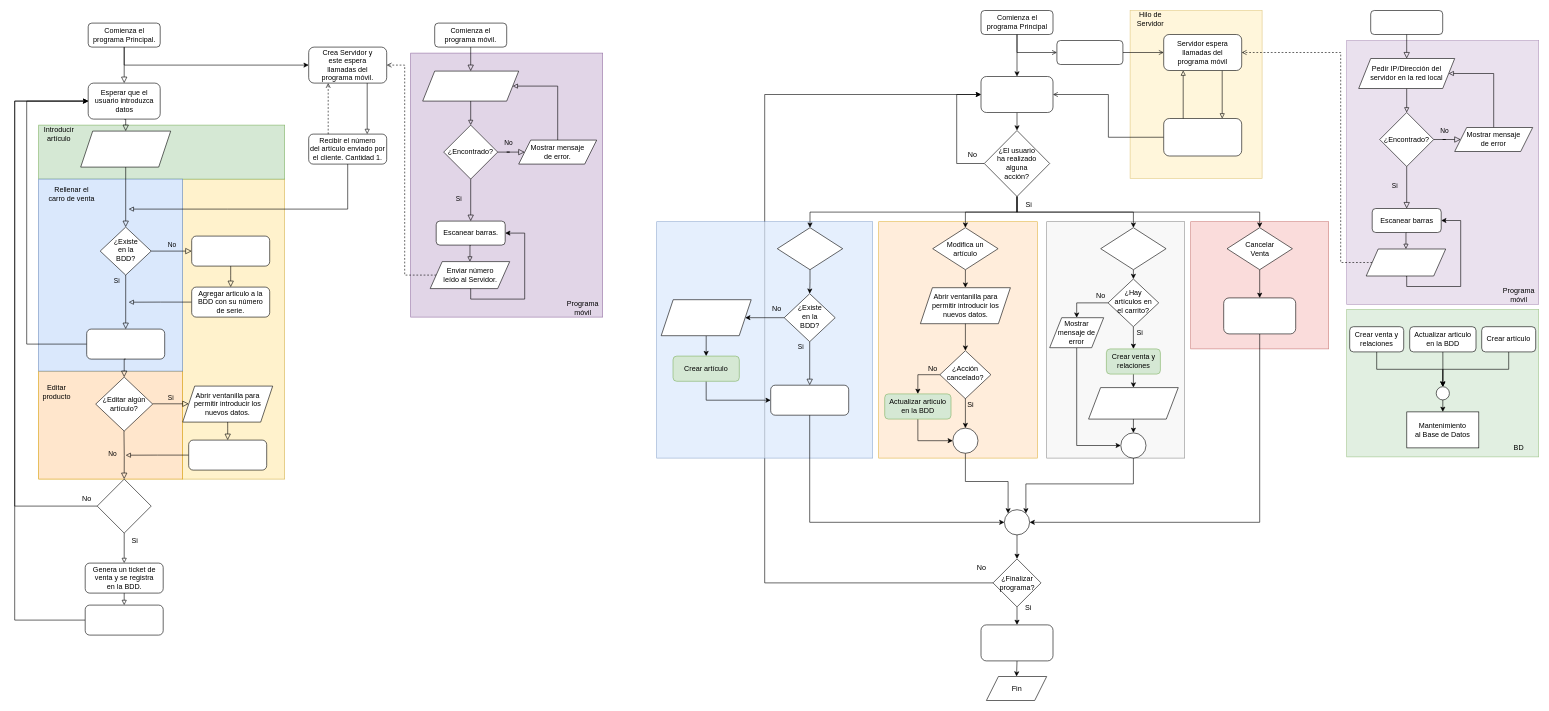
The diagram is 1549 pixels wide and 711 high, and some of its shapes have lost their labels. The shapes that lost their labels are listed below. From the top down, each one's box as (x1, y1, x2, y2) in pixels, then its label:
(1370, 10, 1443, 34): Comienza el programa móvil
(1056, 40, 1123, 64): Crear servidor
(422, 70, 519, 101): Pedir IP/Dirección del servidor en la red local.
(980, 76, 1053, 112): Esperrar acción del usuario
(80, 130, 171, 167): Usuario introduce los datos y la cantidad manualmente
(1163, 118, 1242, 156): Recibir el número del artículo enviado por el cliente. Cantidad 1
(191, 236, 270, 266): Crear nuevo articulo con datos indicados por el usuario.
(777, 227, 843, 270): Introduce un artículo
(1100, 227, 1166, 270): Confirmar Venta
(1366, 248, 1446, 276): Enviar número leído al Servidor
(661, 299, 751, 336): Abrir ventanilla para introducir los datos
(1223, 297, 1296, 334): Borrar todos los artículos del carrito
(86, 328, 165, 359): Agregar x unidad del artículo al carro de compra.
(770, 385, 849, 415): Agregar x unidad del artículo al carro de compra
(1088, 387, 1178, 419): Mostrar algo para indicar que se completó
(188, 440, 267, 470): Actualizar articulo en la BDD.
(97, 478, 151, 533): ¿Usuario confirma venta?
(85, 604, 163, 635): Limpiar el carro de compra.
(980, 624, 1053, 661): Cerrar el hilo del Servidor
